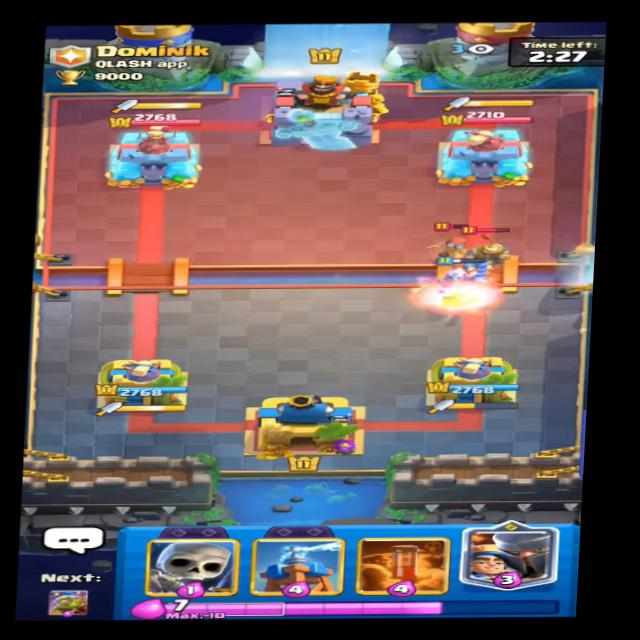bomber: (427, 224, 480, 264)
prince: (457, 225, 516, 286)
